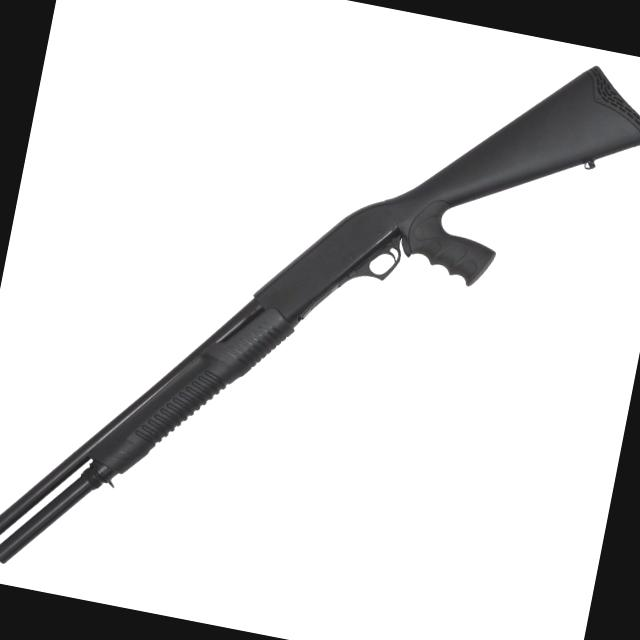long weapon: (0, 43, 640, 578)
